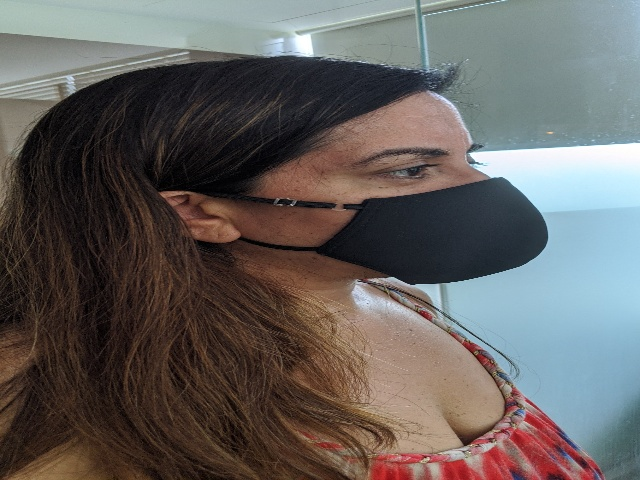mask: (11, 52, 569, 307)
